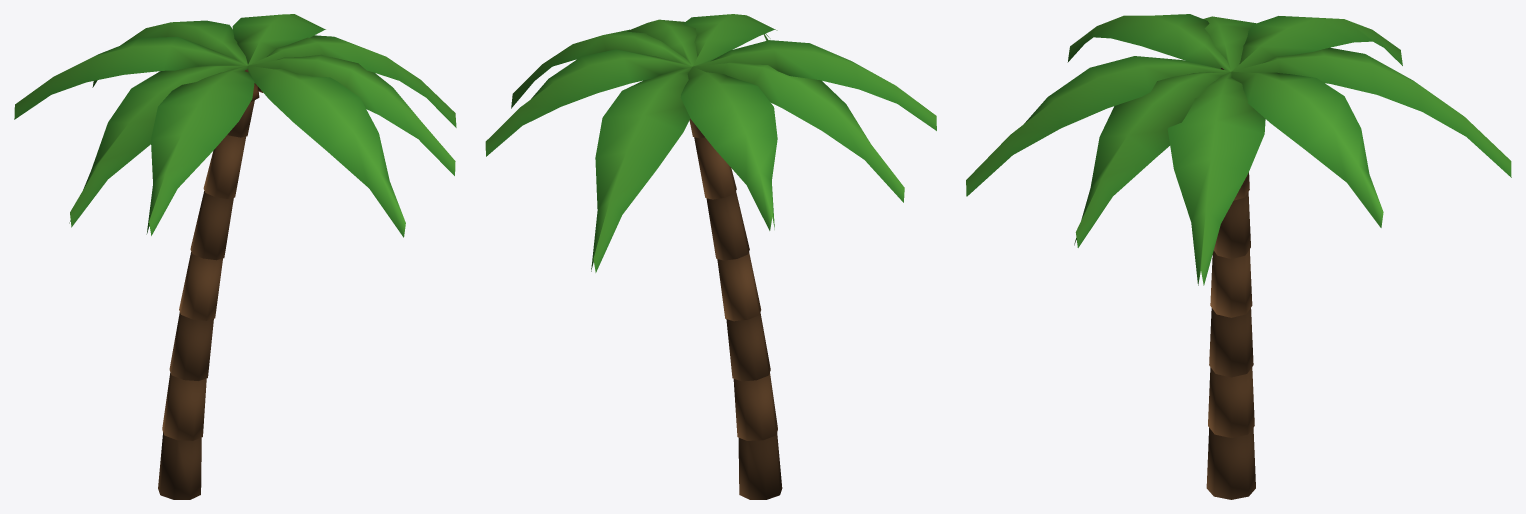
File: palmier_a.glb
The picture shows the model from 3 angles, left to right: view 1: azimuth 30°, elevation 25°; view 2: azimuth 150°, elevation 25°; view 3: azimuth 270°, elevation 25°; orthographic projection. The views are drawn at different scales.
Visible parts, largest first — view 1: Frunze, Corp; view 2: Frunze, Corp; view 3: Frunze, Corp.
Boxes of the visible parts, left/top/right/bottom form: Frunze: left=14, top=14, right=456, bottom=237; Corp: left=158, top=69, right=262, bottom=499; Frunze: left=485, top=14, right=936, bottom=272; Corp: left=689, top=118, right=782, bottom=499; Frunze: left=966, top=14, right=1511, bottom=285; Corp: left=1206, top=68, right=1255, bottom=499.
Size of the model in its own units: 3.43 by 3.57 by 3.75.
